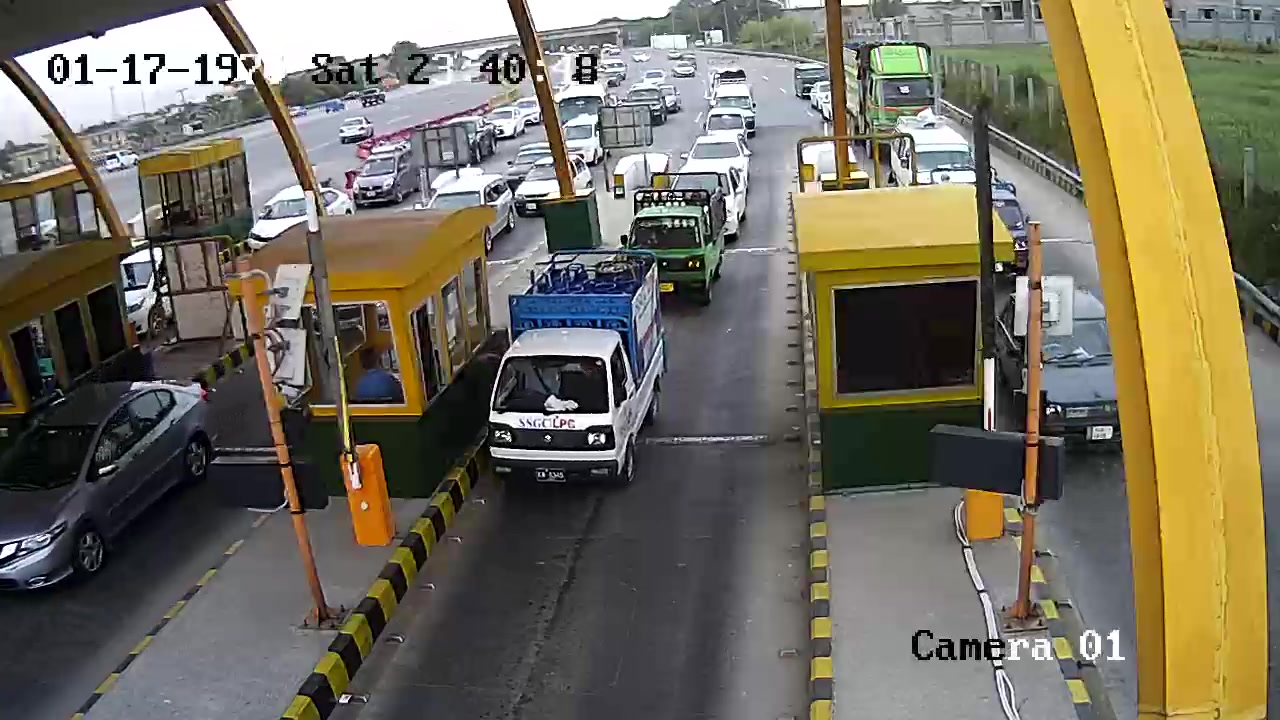F1: (484, 239, 672, 507)
